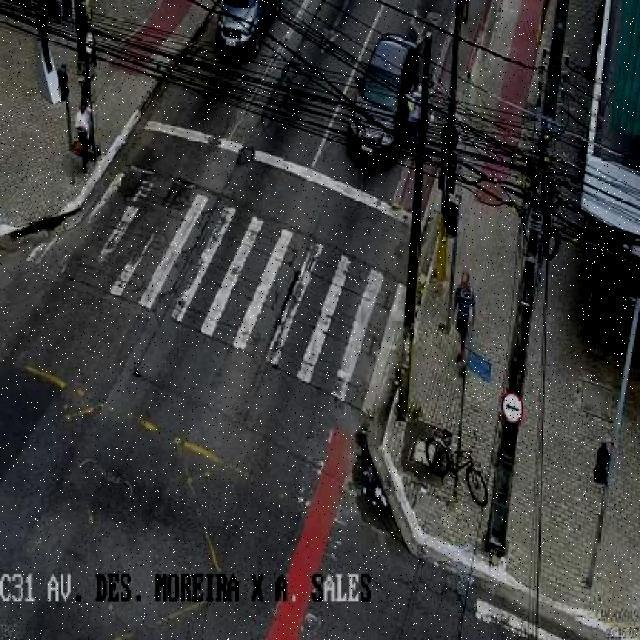Car: (329, 24, 440, 175), (202, 0, 273, 86)
